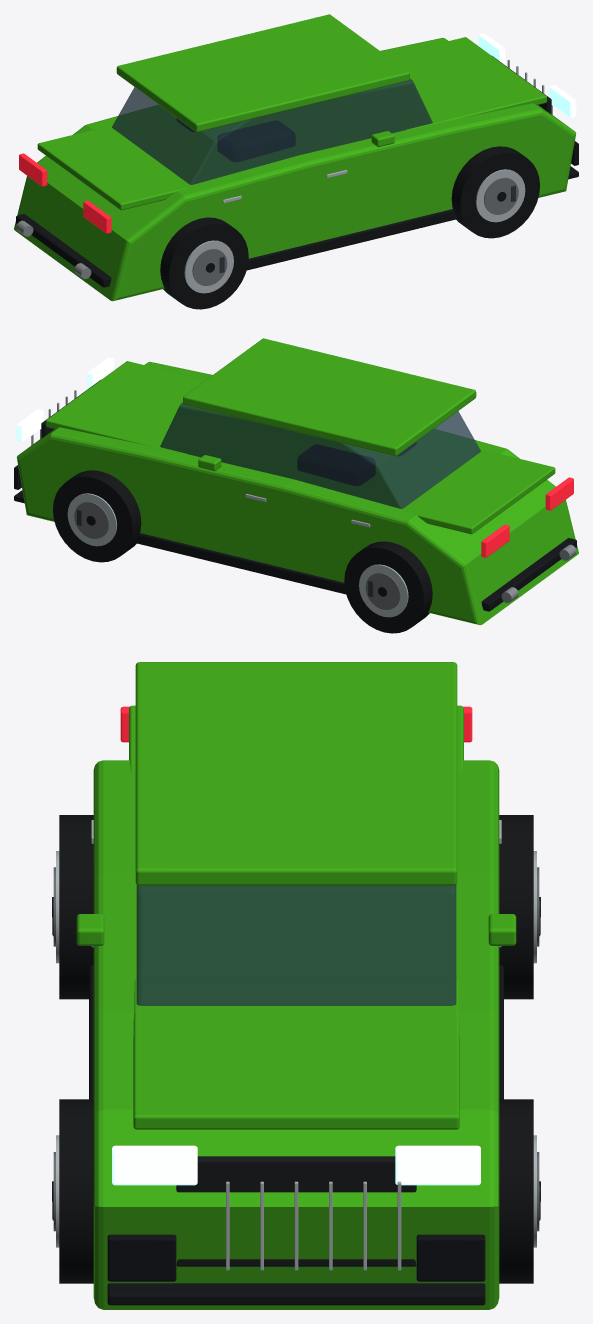
Rendered from chevy_suburban.glb.
3 renders of one model, top to bottom at view 1: azimuth 30°, elevation 25°; view 2: azimuth 150°, elevation 25°; view 3: azimuth 270°, elevation 25°, orthographic. The views are drawn at different scales.
Parts seen in each view (by area): view 1: sculpted_body, roof, glasshouse, hood_center, rear_deck, rear_right_wheel_tire, front_right_wheel_tire, side_skirt_1, seat_1, rear_diffuser, rear_right_wheel_rim, front_right_wheel_rim (+6 smaller); view 2: sculpted_body, roof, glasshouse, hood_center, rear_deck, rear_left_wheel_tire, front_left_wheel_tire, side_skirt_-1, seat_-1, rear_diffuser, rear_left_wheel_rim, front_left_wheel_rim (+6 smaller); view 3: sculpted_body, roof, hood_center, glasshouse, front_grille, front_splitter, front_left_wheel_tire, front_right_wheel_tire, rear_left_wheel_tire, rear_right_wheel_tire, headlight_right, headlight_left (+5 smaller).
Boxes of the visible parts, x1,y1,x2,y2 form: sculpted_body: (14, 38, 576, 301); roof: (116, 14, 409, 132); glasshouse: (112, 78, 432, 184); hood_center: (358, 37, 546, 129); rear_deck: (37, 126, 190, 210); rear_right_wheel_tire: (160, 217, 248, 309); front_right_wheel_tire: (451, 146, 539, 238); side_skirt_1: (246, 209, 457, 270); seat_1: (218, 121, 294, 161); rear_diffuser: (16, 214, 111, 287); rear_right_wheel_rim: (184, 240, 233, 293); front_right_wheel_rim: (475, 169, 525, 222); sculpted_body: (16, 362, 578, 625); roof: (183, 338, 476, 456); glasshouse: (160, 402, 480, 508); hood_center: (46, 361, 234, 453); rear_deck: (402, 450, 555, 534); rear_left_wheel_tire: (344, 541, 432, 633); front_left_wheel_tire: (53, 470, 141, 562); side_skirt_-1: (135, 533, 346, 594); seat_-1: (298, 445, 374, 485); rear_diffuser: (481, 538, 576, 611); rear_left_wheel_rim: (359, 564, 408, 617); front_left_wheel_rim: (67, 493, 117, 546); sculpted_body: (93, 760, 499, 1309); roof: (135, 662, 457, 885); hood_center: (133, 979, 459, 1129); glasshouse: (136, 885, 456, 1005); front_grille: (176, 1156, 416, 1266); front_splitter: (107, 1283, 485, 1305); front_left_wheel_tire: (499, 1099, 533, 1283); front_right_wheel_tire: (59, 1099, 93, 1283); rear_left_wheel_tire: (499, 815, 533, 999); rear_right_wheel_tire: (59, 815, 93, 999); headlight_right: (112, 1145, 197, 1185); headlight_left: (395, 1145, 480, 1185).
Size of the model in its own units: 5.24 by 1.73 by 2.28.
